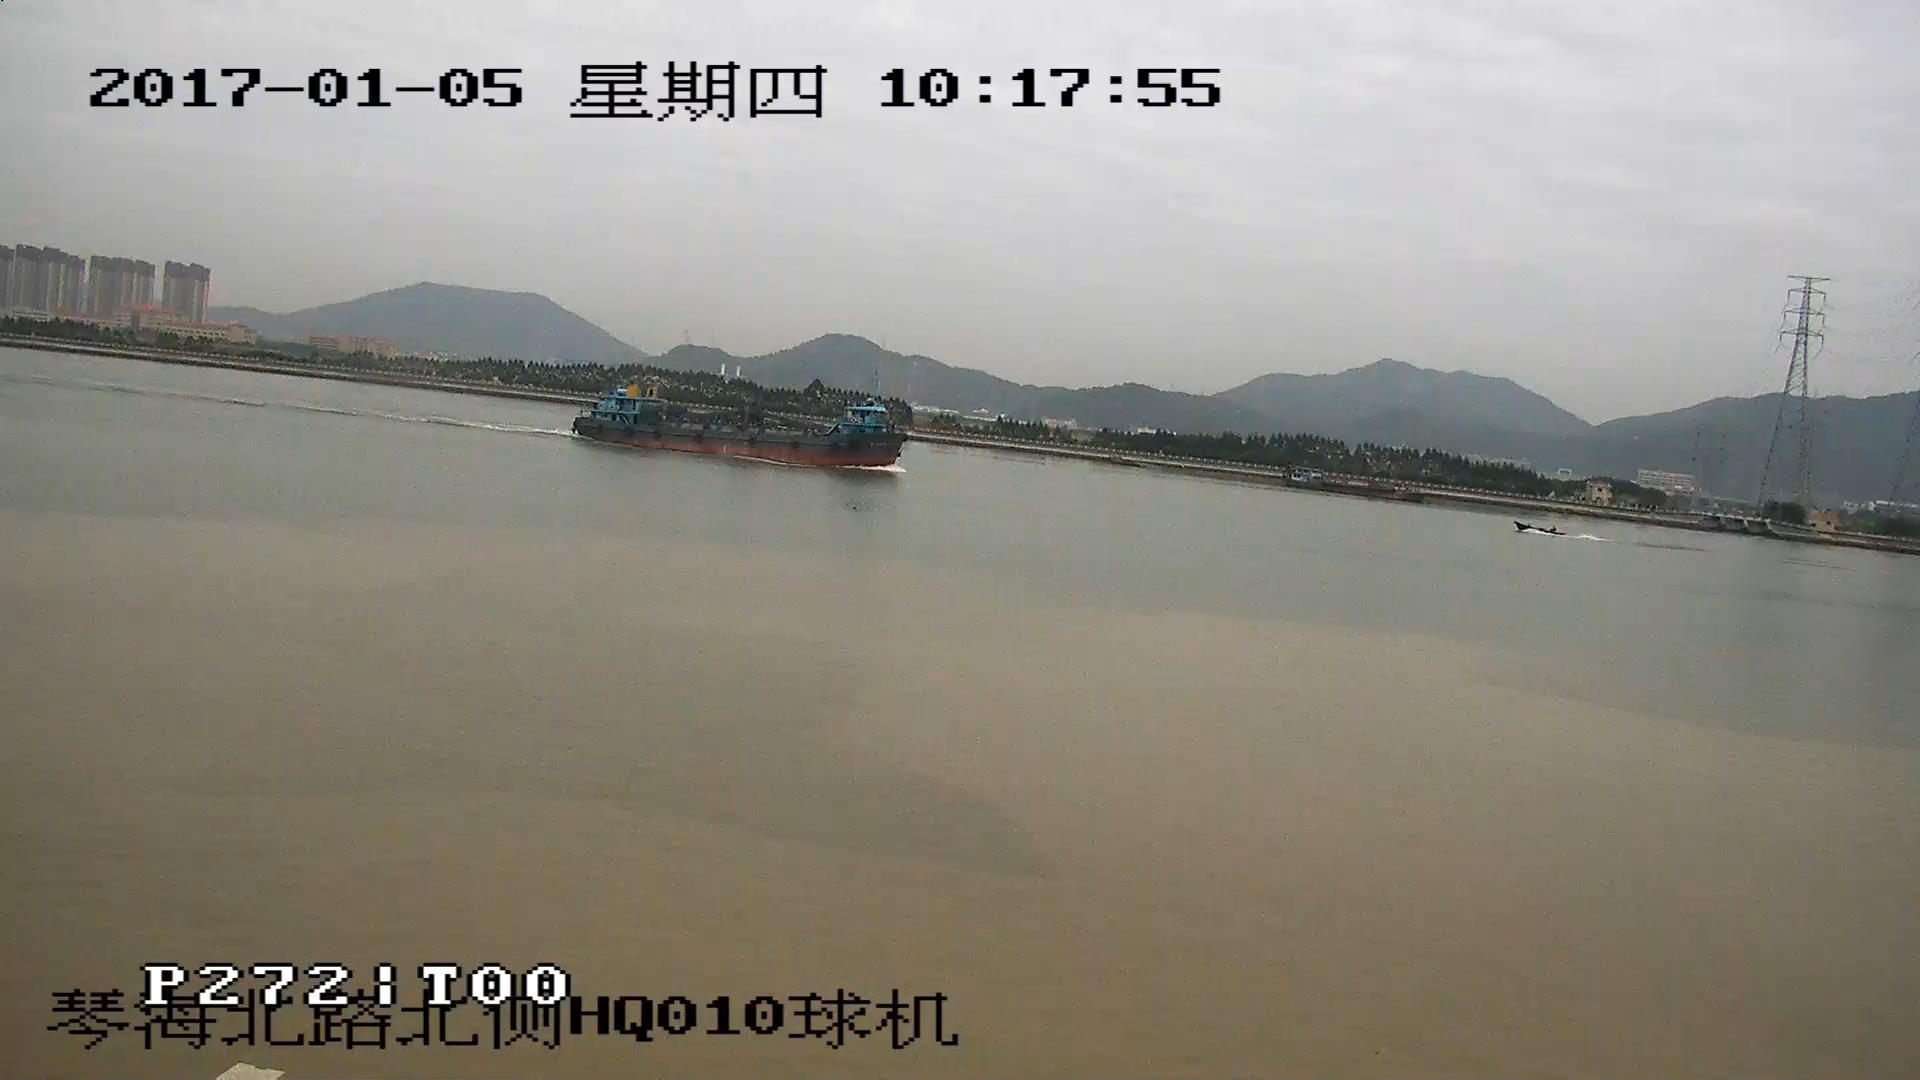Ship: (576, 373, 899, 464)
